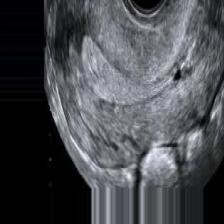no-pcos: (46, 0, 224, 187)
